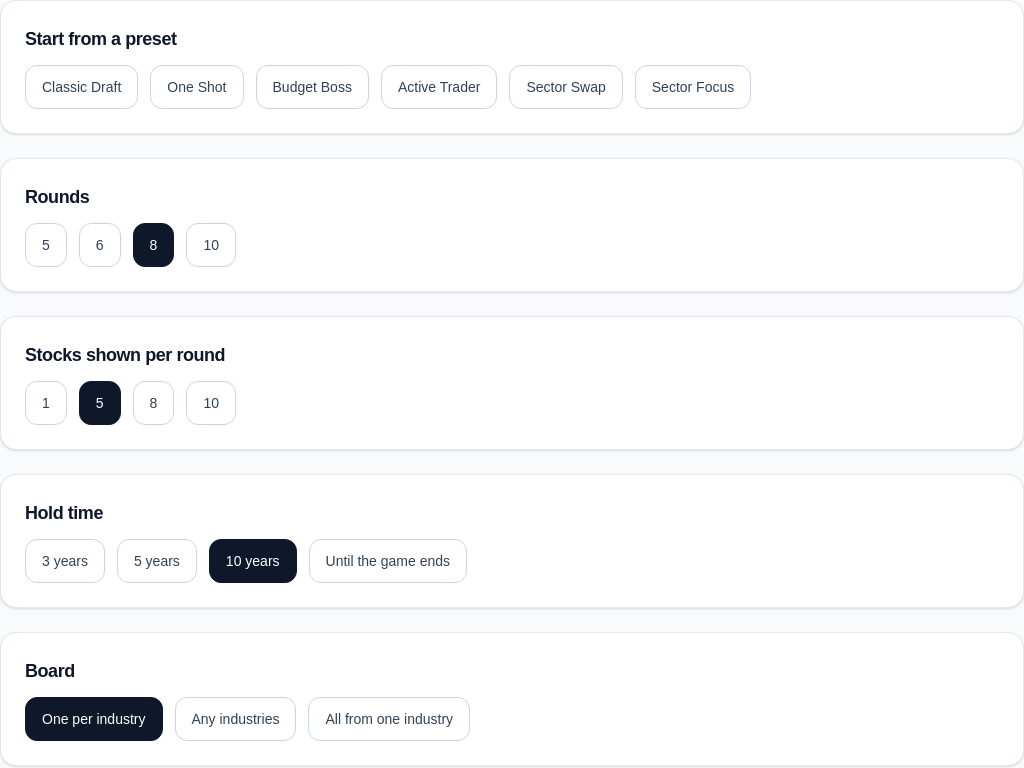
Test: ConfigForm › re-enables Start after fixing an impossible combination
Click the button "10" below "Stocks shown per round": (211, 403) [186,381,236,425]
(page scrolled)
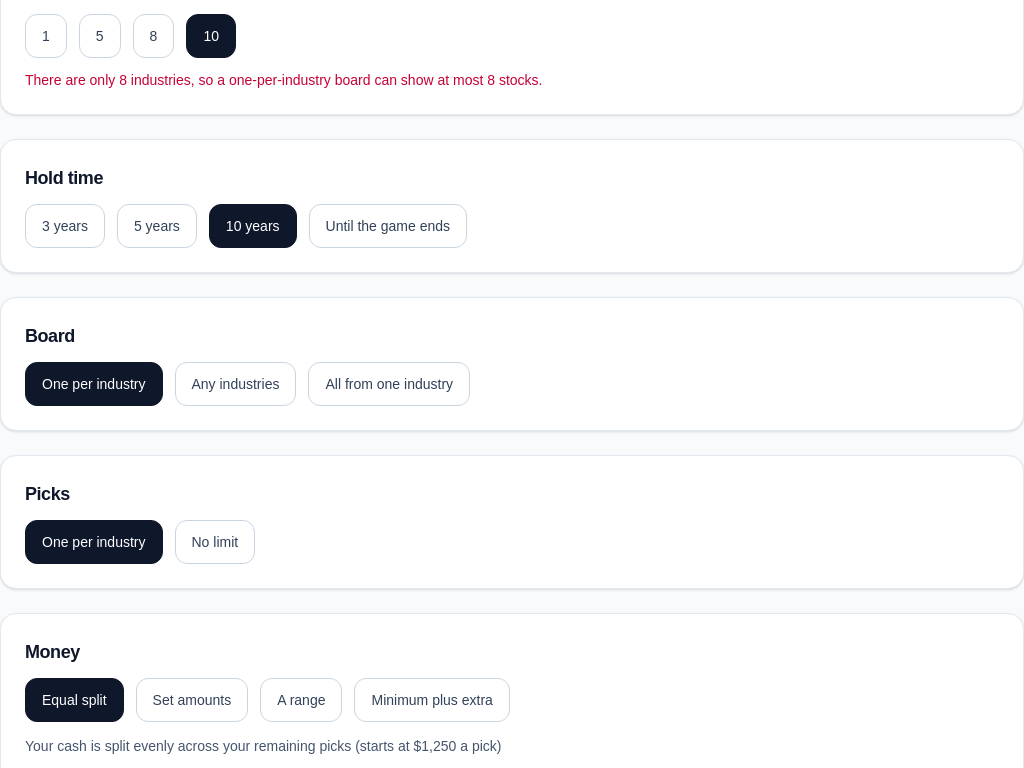
Click the button "Any industries": (235, 384) [174,362,296,406]
(page scrolled)
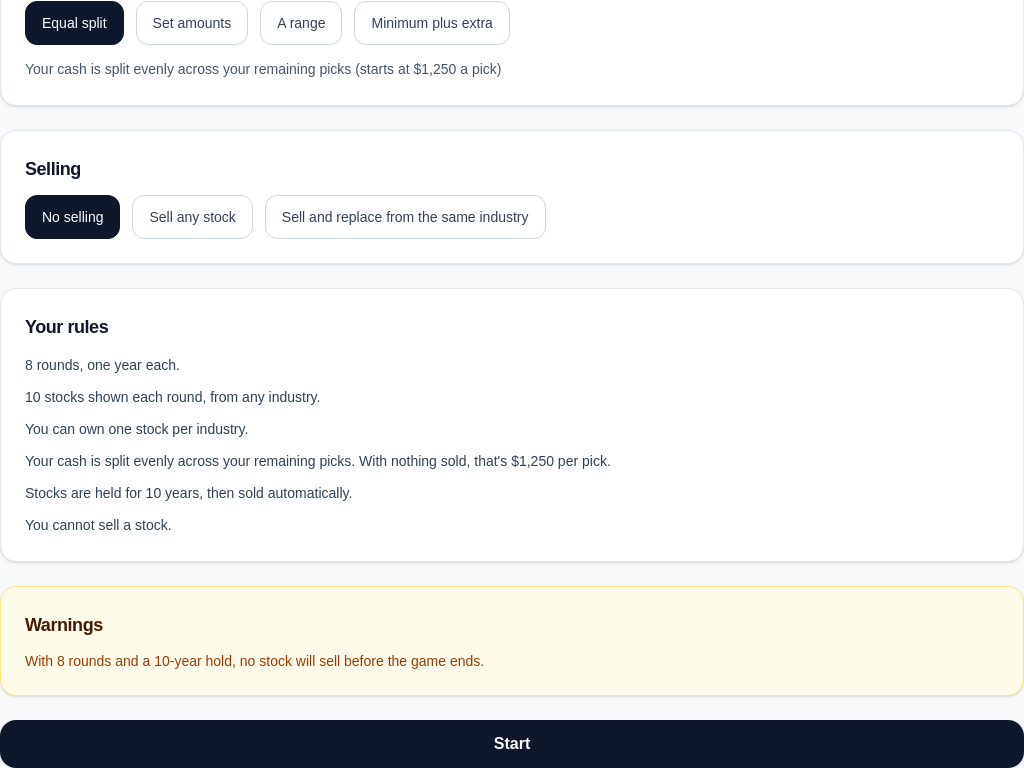
Now the list item "There are only 8 industries" is gone
Now the button "Start" is enabled, box [0,720,1023,767]
